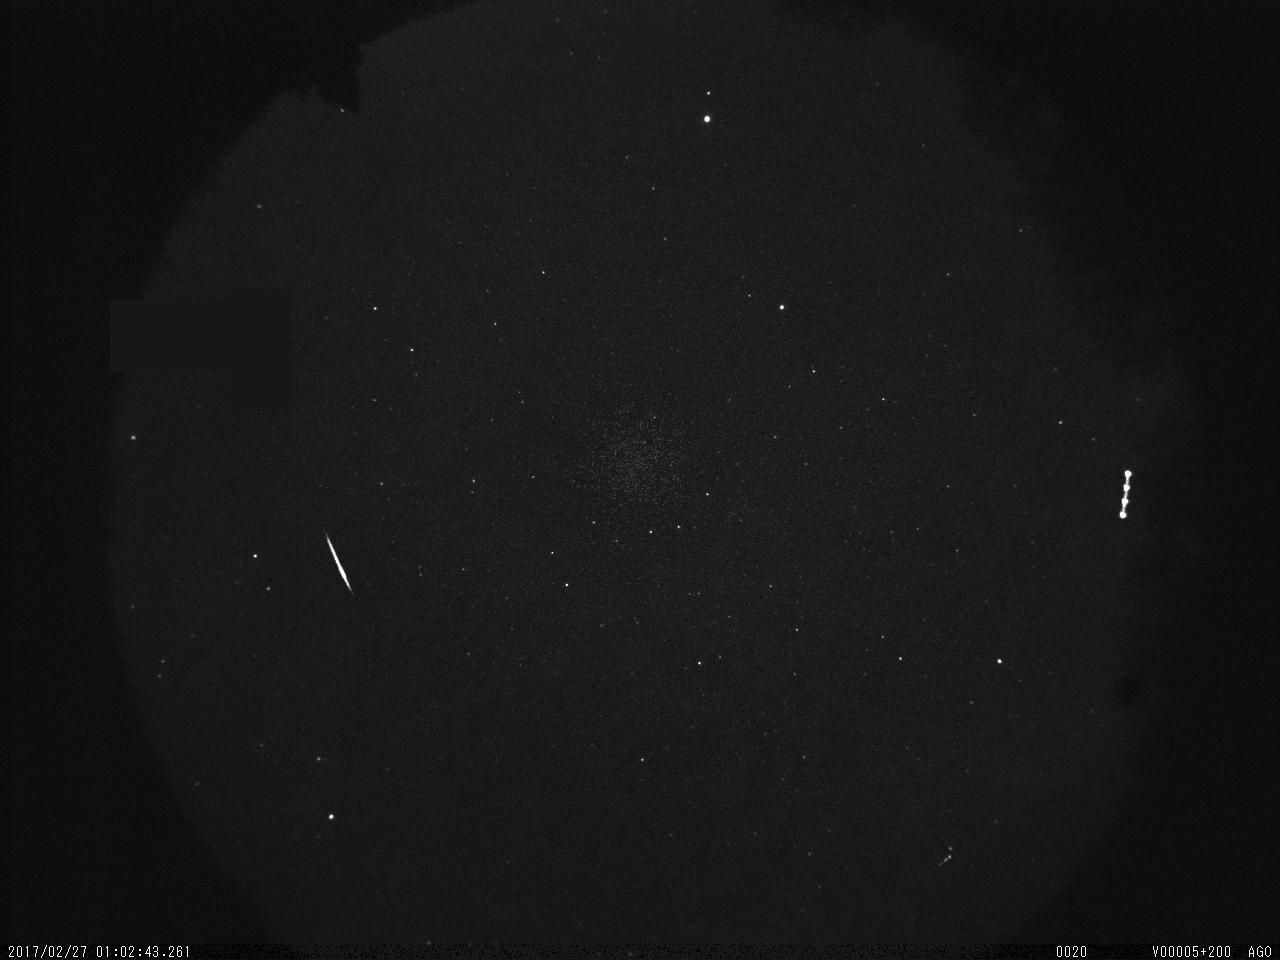meteor: (299, 511, 371, 595)
